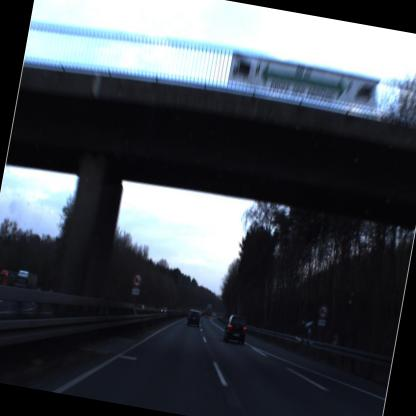prohibitory: (315, 299, 330, 322), (127, 270, 144, 290)
